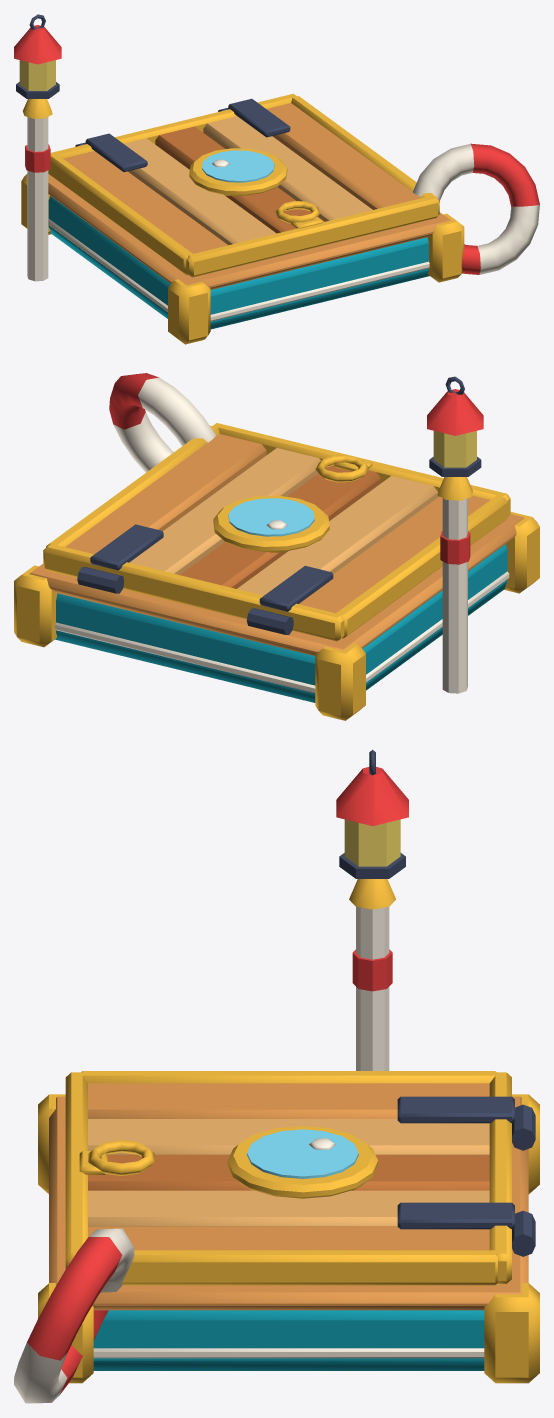
File: boat-hatch.glb
3 renders of one model, top to bottom at view 1: azimuth 30°, elevation 25°; view 2: azimuth 150°, elevation 25°; view 3: azimuth 270°, elevation 25°, orthographic. The views are drawn at different scales.
Visible parts, largest first — view 1: hatch_door, hatch_body; view 2: hatch_door, hatch_body; view 3: hatch_door, hatch_body.
Part boxes in pixels (left/top/right/bottom): hatch_door: left=48, top=93, right=439, bottom=277; hatch_body: left=14, top=14, right=539, bottom=344; hatch_door: left=43, top=423, right=510, bottom=641; hatch_body: left=14, top=373, right=539, bottom=720; hatch_door: left=65, top=1071, right=535, bottom=1285; hatch_body: left=14, top=749, right=539, bottom=1403.
Size of the model in its own units: 2.63 by 1.58 by 1.89.
